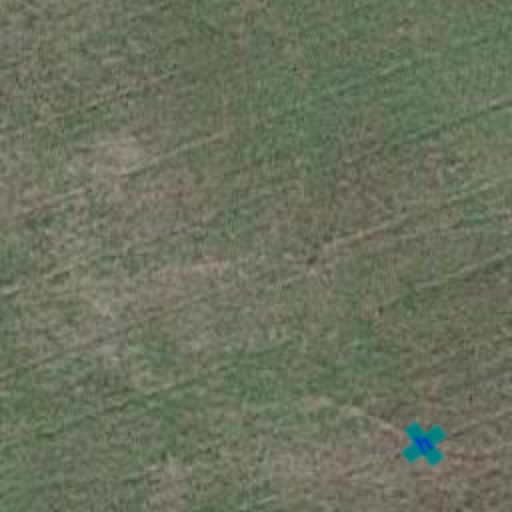cross: (390, 410, 458, 478)
